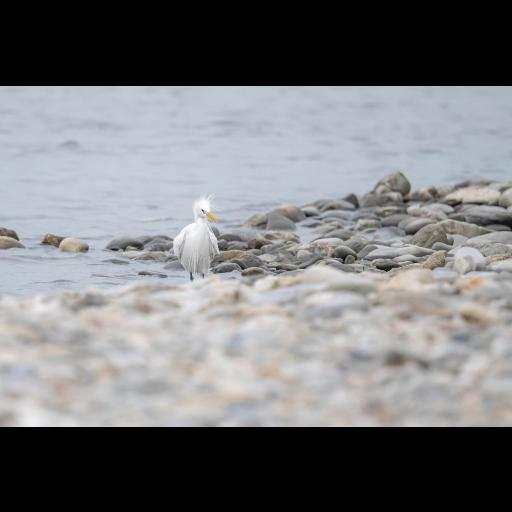chinese_egret: (173, 189, 219, 281)
